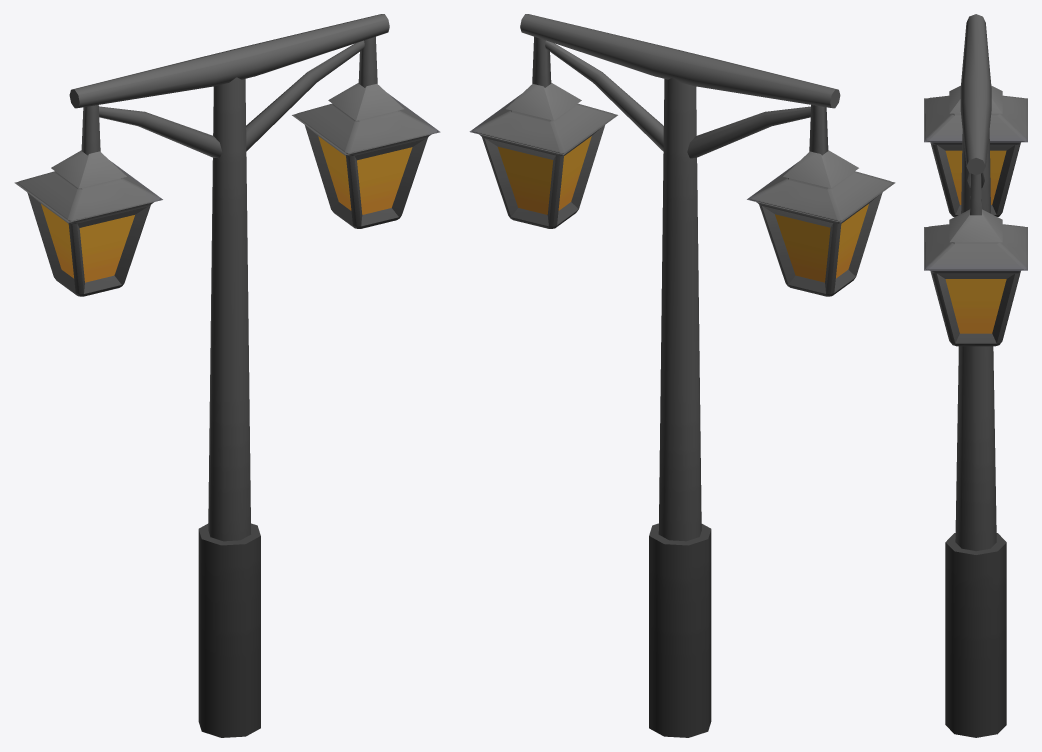
Rendered from Lamp Post.fbx.
3 renders of one model, left to right at view 1: azimuth 30°, elevation 25°; view 2: azimuth 150°, elevation 25°; view 3: azimuth 270°, elevation 25°, orthographic. The views are drawn at different scales.
Visible parts, largest first — view 1: Lamp_Post; view 2: Lamp_Post; view 3: Lamp_Post.
Part boxes in pixels (x1,y1,x2,y2): Lamp_Post: [14, 14, 440, 737]; Lamp_Post: [469, 14, 895, 737]; Lamp_Post: [924, 14, 1027, 737].
Size of the model in its own units: 138 by 238 by 35.11.
